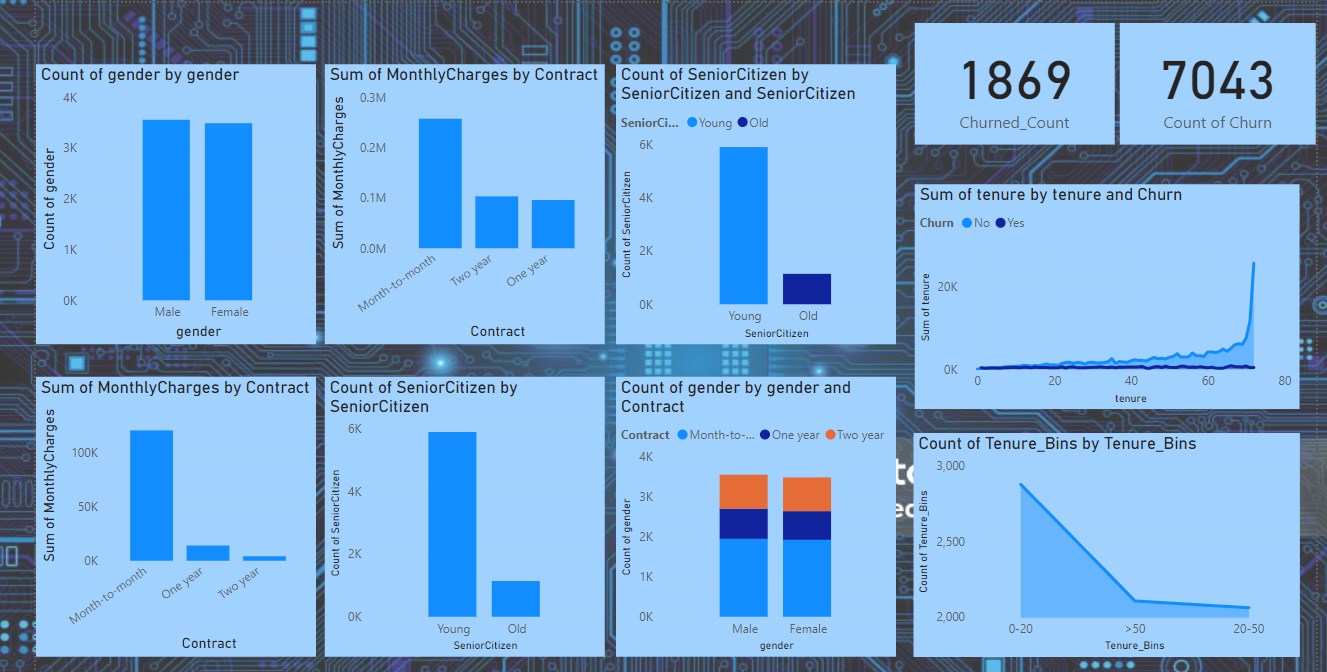

This screenshot's page, from the dashboard's own definition file:
{"tool":"powerbi","page":{"name":"Home","canvas":[1280,720],"ordinal":1},"visuals":[{"type":"columnChart","fields":{"Category":["Telco-Customer-Churn.gender"],"Y":["CountNonNull(Telco-Customer-Churn.gender)"]},"box":[0,61.2,280,280],"z":0},{"type":"columnChart","fields":{"Category":["Telco-Customer-Churn.Contract"],"Y":["Sum(Telco-Customer-Churn.MonthlyCharges)"]},"box":[288.8,61.2,280,280],"z":1000},{"type":"columnChart","fields":{"Category":["Telco-Customer-Churn.Contract"],"Y":["Sum(Telco-Customer-Churn.MonthlyCharges)"]},"box":[0,373.8,280,280],"z":2000},{"type":"card","fields":{"Values":["CountNonNull(Telco-Customer-Churn.Churn)"]},"box":[1083.8,20,196.2,121.2],"z":3000},{"type":"card","fields":{"Values":["Telco-Customer-Churn.Churned_Count"]},"box":[878.8,20,200,121.2],"z":4000},{"type":"columnChart","fields":{"Category":["Telco-Customer-Churn.SeniorCitizen"],"Y":["CountNonNull(Telco-Customer-Churn.SeniorCitizen)"]},"box":[288.8,373.8,280,280],"z":5000},{"type":"columnChart","fields":{"Category":["Telco-Customer-Churn.SeniorCitizen"],"Y":["CountNonNull(Telco-Customer-Churn.SeniorCitizen)"],"Series":["Telco-Customer-Churn.SeniorCitizen"]},"box":[580,61.2,280,280],"z":6000},{"type":"columnChart","fields":{"Category":["Telco-Customer-Churn.gender"],"Y":["CountNonNull(Telco-Customer-Churn.gender)"],"Series":["Telco-Customer-Churn.Contract"]},"box":[580,373.8,280,280],"z":7000},{"type":"areaChart","fields":{"Category":["Telco-Customer-Churn.tenure"],"Series":["Telco-Customer-Churn.Churn"],"Y":["Sum(Telco-Customer-Churn.tenure)"]},"box":[878.8,181.2,385,225],"z":8000},{"type":"areaChart","fields":{"Category":["Telco-Customer-Churn.Tenure_Bins"],"Y":["CountNonNull(Telco-Customer-Churn.Tenure_Bins)"]},"box":[877.5,430,386.2,223.8],"z":9000}]}

Visuals, with their boxes on the page's 1280x720 design canvas (x1, y1, x2, y2). These are canvas units, not pixel positions in the 1327x672 screenshot, which may show the page scaled, cropped or inside an application window:
columnChart - Telco-Customer-Churn.gender x CountNonNull(Telco-Customer-Churn.gender): Rect(0, 61, 280, 341)
columnChart - Telco-Customer-Churn.Contract x Sum(Telco-Customer-Churn.MonthlyCharges): Rect(289, 61, 569, 341)
columnChart - Telco-Customer-Churn.Contract x Sum(Telco-Customer-Churn.MonthlyCharges): Rect(0, 374, 280, 654)
card - CountNonNull(Telco-Customer-Churn.Churn): Rect(1084, 20, 1280, 141)
card - Telco-Customer-Churn.Churned_Count: Rect(879, 20, 1079, 141)
columnChart - Telco-Customer-Churn.SeniorCitizen x CountNonNull(Telco-Customer-Churn.SeniorCitizen): Rect(289, 374, 569, 654)
columnChart - Telco-Customer-Churn.SeniorCitizen x CountNonNull(Telco-Customer-Churn.SeniorCitizen): Rect(580, 61, 860, 341)
columnChart - Telco-Customer-Churn.gender x CountNonNull(Telco-Customer-Churn.gender): Rect(580, 374, 860, 654)
areaChart - Telco-Customer-Churn.tenure x Telco-Customer-Churn.Churn: Rect(879, 181, 1264, 406)
areaChart - Telco-Customer-Churn.Tenure_Bins x CountNonNull(Telco-Customer-Churn.Tenure_Bins): Rect(878, 430, 1264, 654)
